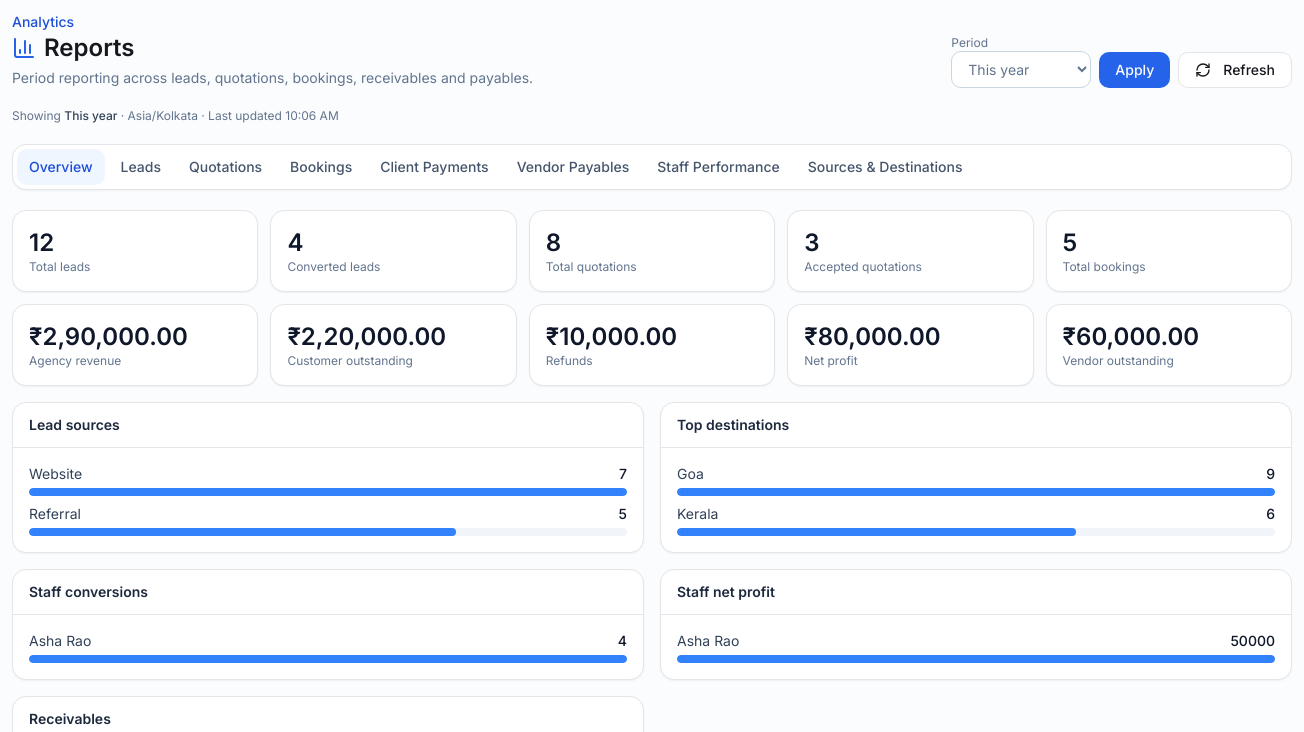
Test: Phase 19 reports tabs › renders the Leads tab summary and breakdowns
This screenshot has width=1304, height=732.
Click the button "Leads" at (141, 167), box [108,149,173,185]
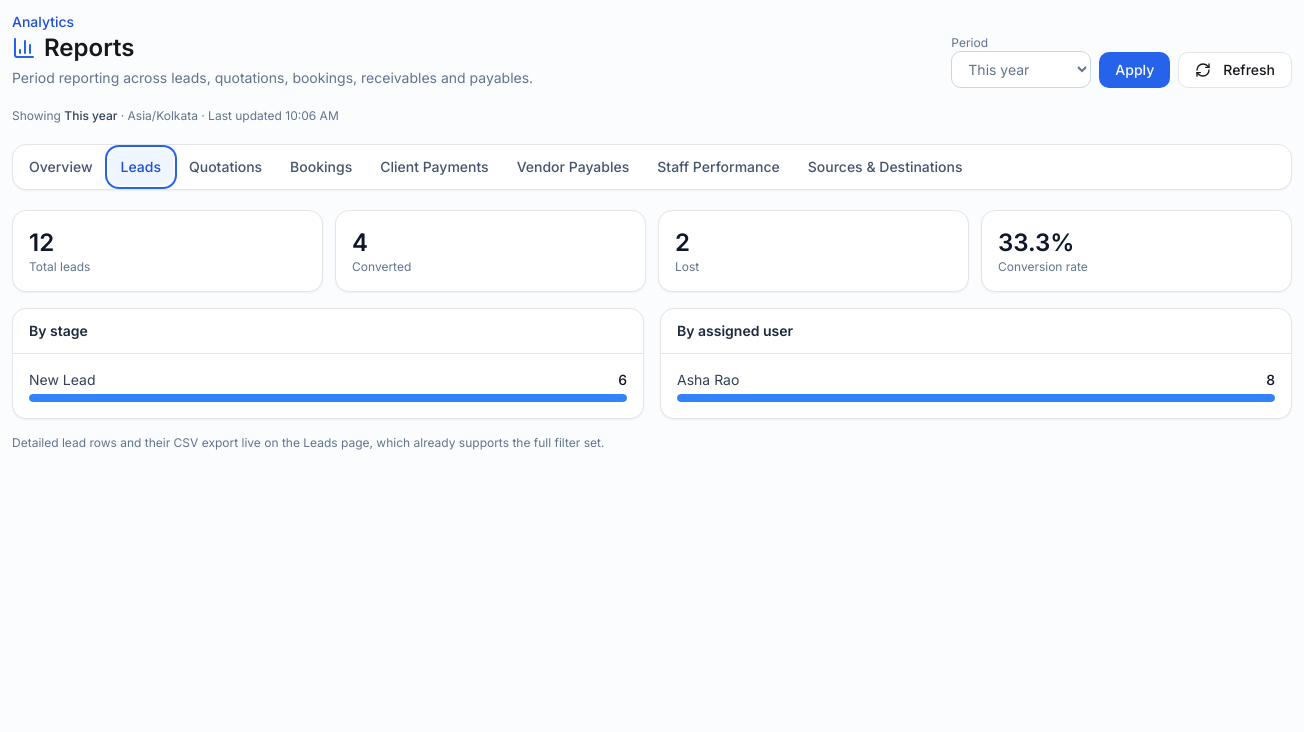
Check: the text "Conversion rate" is shown, box [998,259,1088,274]
Check: the text "By stage" is shown, box [13,309,643,354]
Check: the text "By assigned user" is shown, box [661,309,1291,354]
